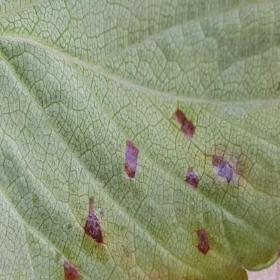Angular Leafspot: (49, 104, 279, 279)
